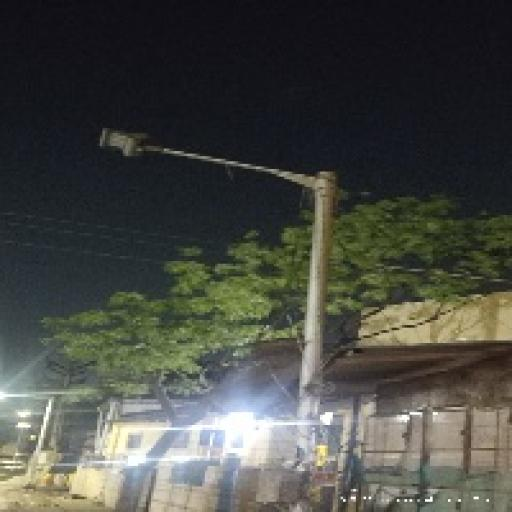Not Working: (86, 120, 160, 168)
